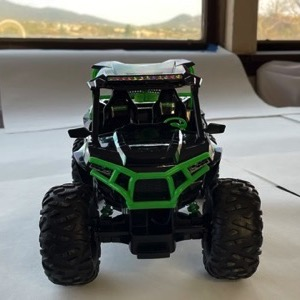polaris: (38, 57, 266, 287)
